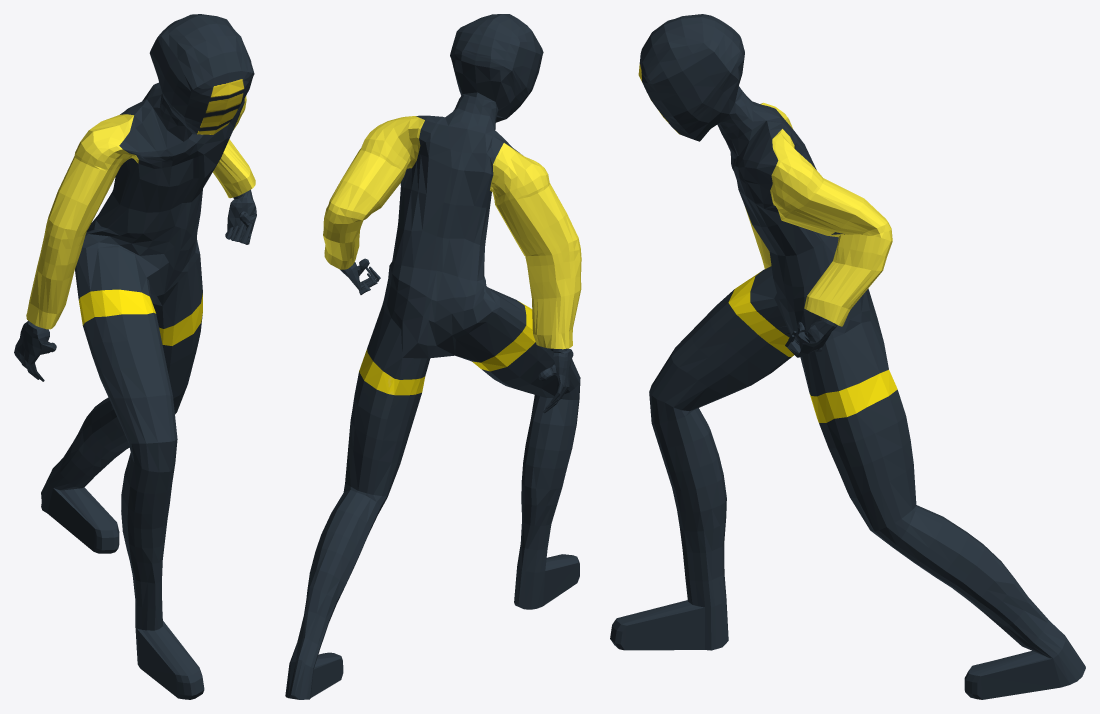
Rendered from Sentry_Stun_000026.obj.
3 views of the same model, side by side, from view 1: azimuth 30°, elevation 25°; view 2: azimuth 150°, elevation 25°; view 3: azimuth 270°, elevation 25° (orthographic). The views are drawn at different scales.
Parts seen in each view (by area): view 1: Cube; view 2: Cube; view 3: Cube.
Part boxes in pixels (x1,y1,x2,y2): Cube: [14, 14, 256, 699]; Cube: [285, 14, 581, 699]; Cube: [610, 14, 1085, 699].
Bounding box in the file's own units: 1.38 × 3.39 × 2.23.
